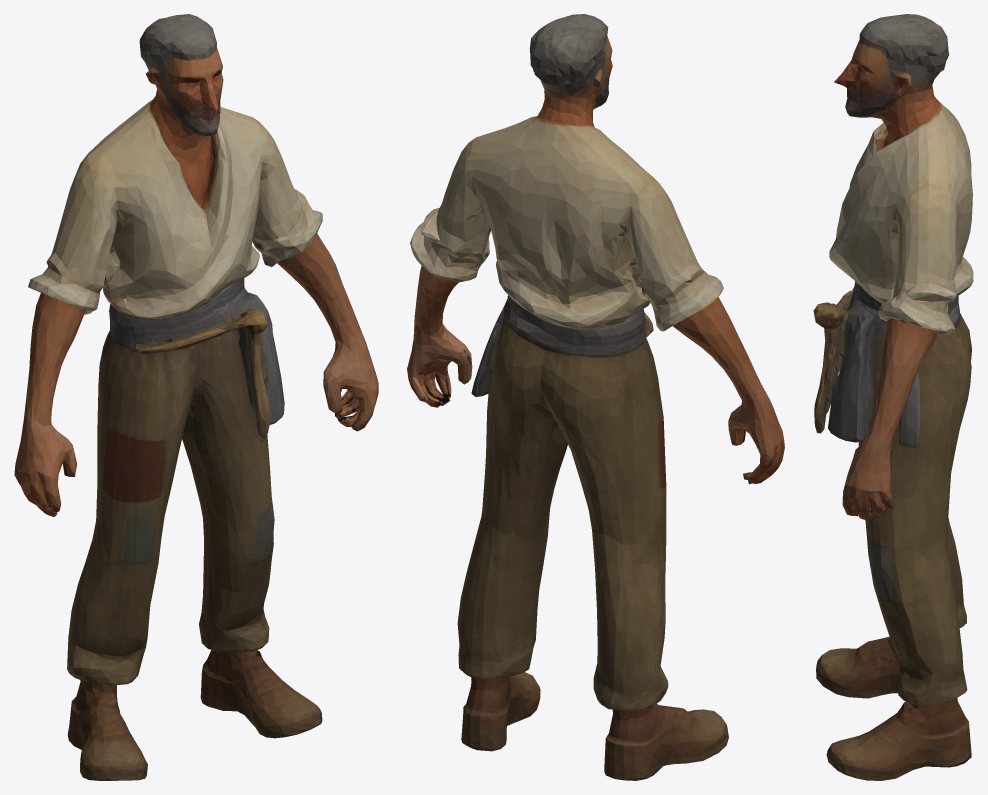
File: nando-sam-grezzo.glb
3 renders of one model, left to right at view 1: azimuth 30°, elevation 25°; view 2: azimuth 150°, elevation 25°; view 3: azimuth 270°, elevation 25°, orthographic.
Visible parts, largest first — view 1: geometry_0; view 2: geometry_0; view 3: geometry_0.
Boxes of the visible parts, left/top/right/bottom form: geometry_0: left=14, top=14, right=378, bottom=780; geometry_0: left=407, top=14, right=784, bottom=780; geometry_0: left=813, top=14, right=973, bottom=780.
Bounding box in the file's own units: 0.5264 × 0.9985 × 0.2044.
1 material, 1 textured.
